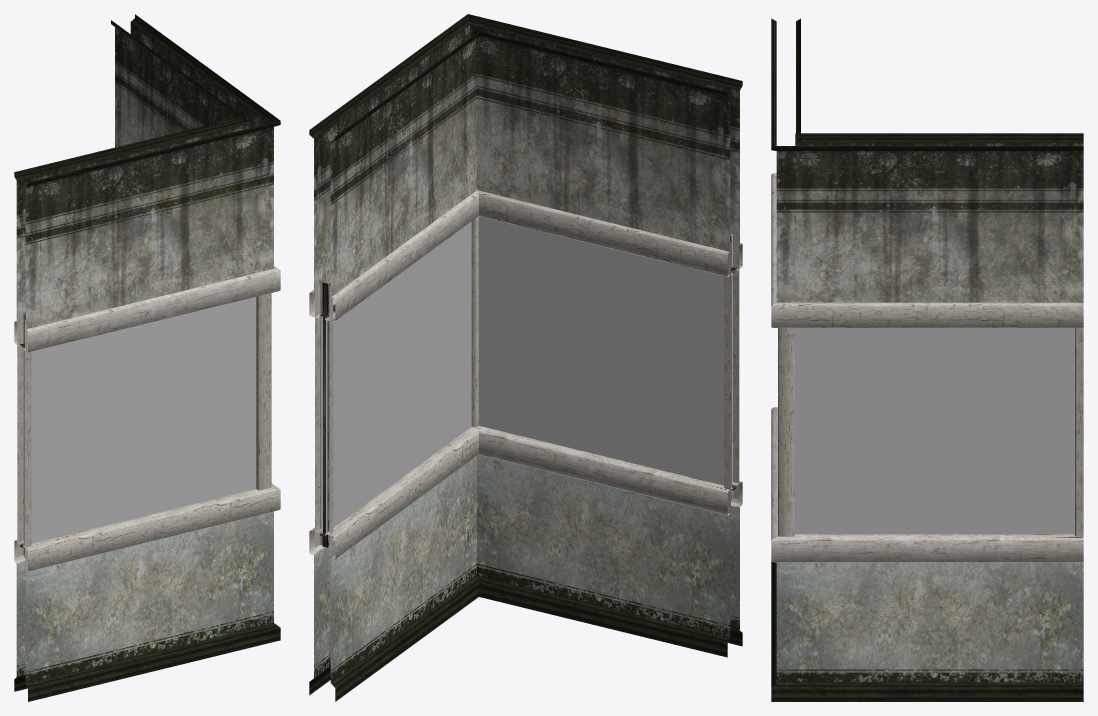
Rendered from waitingroom_reception_damaged_convex.dae.
3 views of the same model, side by side, from view 1: azimuth 30°, elevation 25°; view 2: azimuth 150°, elevation 25°; view 3: azimuth 270°, elevation 25° (orthographic). The views are drawn at different scales.
Parts seen in each view (by area): view 1: polySurface188, polySurface189; view 2: polySurface188, polySurface189; view 3: polySurface188, polySurface189.
Boxes of the visible parts, box(x1,y1,x2,y2) form: polySurface188: box(14, 14, 280, 701); polySurface189: box(23, 297, 256, 545); polySurface188: box(309, 14, 742, 701); polySurface189: box(321, 216, 731, 534); polySurface188: box(771, 18, 1083, 701); polySurface189: box(795, 328, 1074, 534).
Size of the model in its own units: 2.03 by 4 by 2.03.
